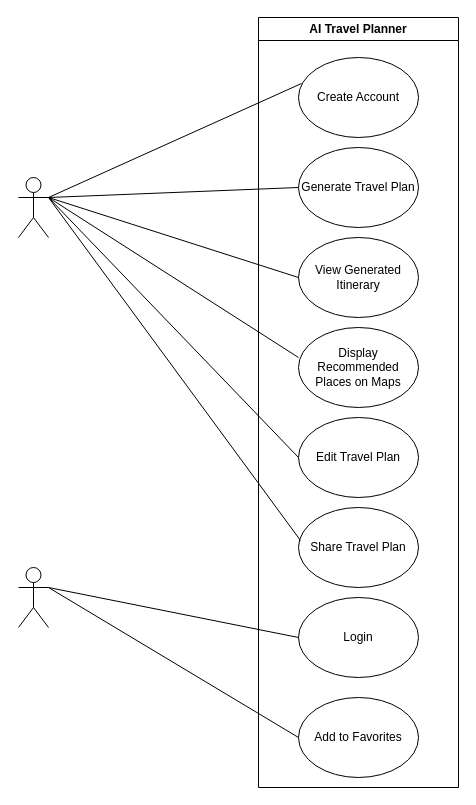
This 476x805 diagram has some shape labels left out. The shapes that lost their labels are listed below. From the top down, each one's centre as x and y in pixels, then its label:
point 33,207: Visitor
point 33,597: User
